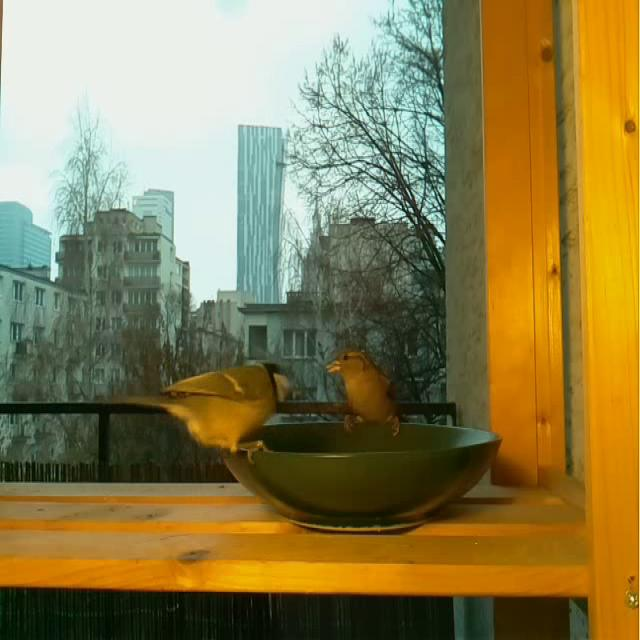Bogatka: (93, 355, 297, 465)
Wrobel: (323, 347, 409, 440)
